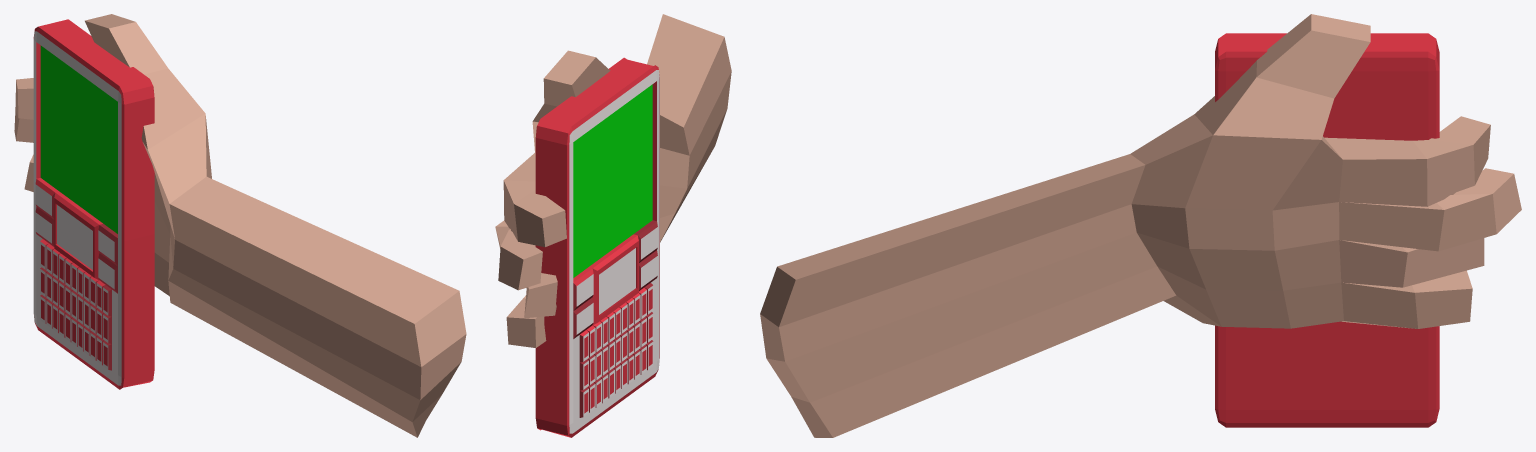
3 views of the same model, side by side, from view 1: azimuth 30°, elevation 25°; view 2: azimuth 150°, elevation 25°; view 3: azimuth 270°, elevation 25° (orthographic). The views are drawn at different scales.
Visible parts, largest first — view 1: Cube.001, Cube.002; view 2: Cube.002, Cube.001; view 3: Cube.001, Cube.002.
Part boxes in pixels (x1,y1,x2,y2): Cube.001: [14, 14, 466, 437]; Cube.002: [33, 19, 154, 389]; Cube.002: [535, 57, 659, 437]; Cube.001: [495, 14, 731, 347]; Cube.001: [760, 14, 1521, 437]; Cube.002: [1215, 33, 1439, 427].
Bounding box in the file's own units: 17.79 × 32.29 × 54.44.
